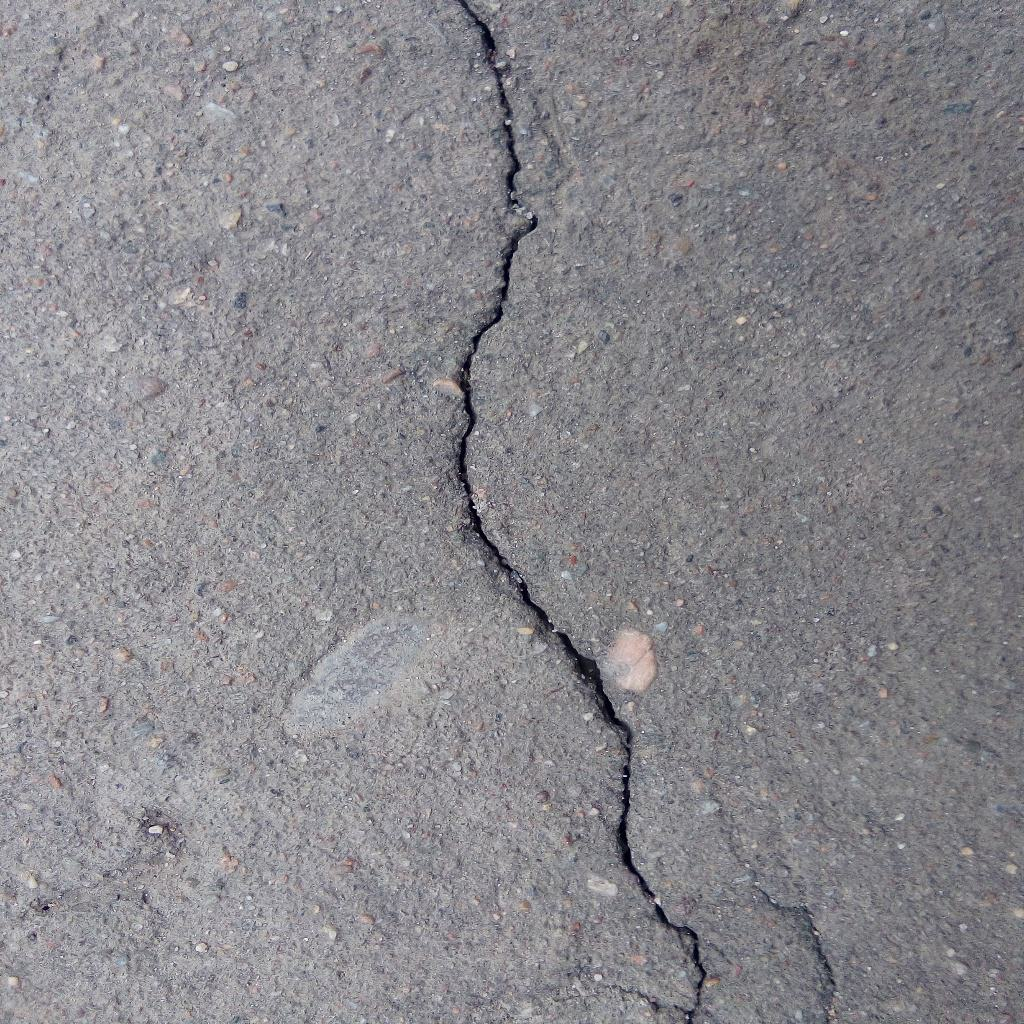Crack: (452, 1, 709, 1024), (748, 868, 837, 1024)
